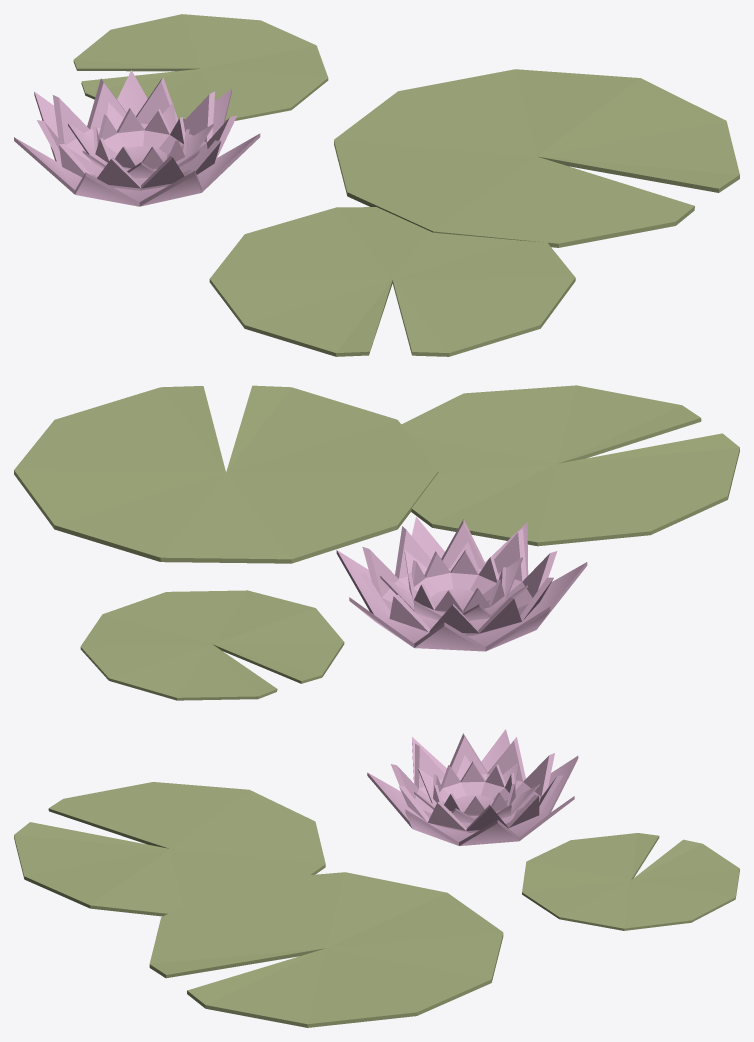
Rendered from ER_Asset_Waterlily03.fbx.
The picture shows the model from 3 angles, top to bottom: view 1: azimuth 30°, elevation 25°; view 2: azimuth 150°, elevation 25°; view 3: azimuth 270°, elevation 25°; orthographic projection. The views are drawn at different scales.
Parts seen in each view (by area): view 1: pCylinder67; view 2: pCylinder67; view 3: pCylinder67.
Part boxes in pixels (x1,y1,x2,y2): pCylinder67: (14,14,739,356); pCylinder67: (14,385,739,700); pCylinder67: (14,729,739,1027).
Bounding box in the file's own units: 1.82 × 0.1744 × 2.19.
